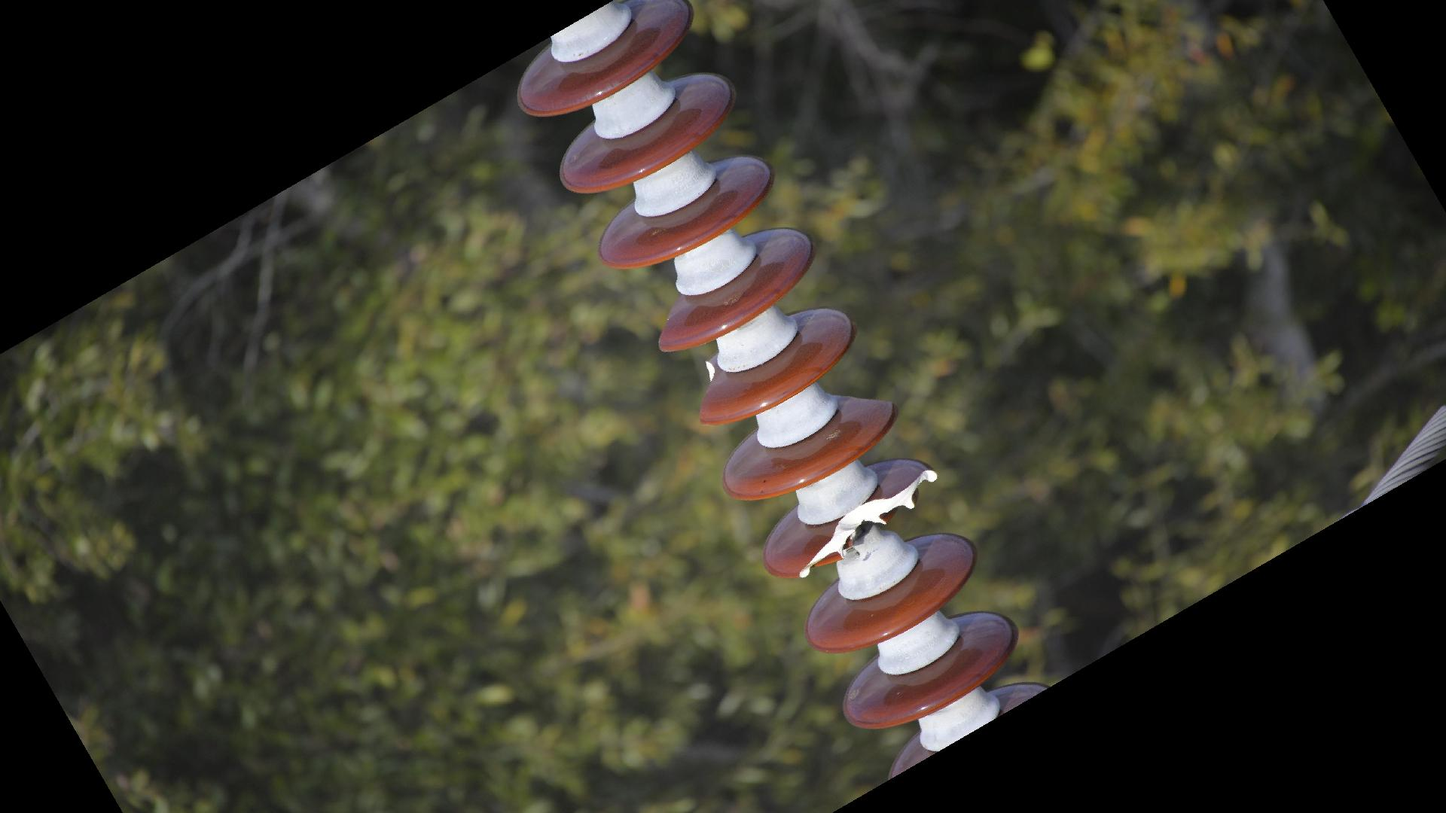insulator: (508, 1, 1057, 787)
insulator_breakage: (789, 464, 941, 582), (693, 353, 719, 426)
